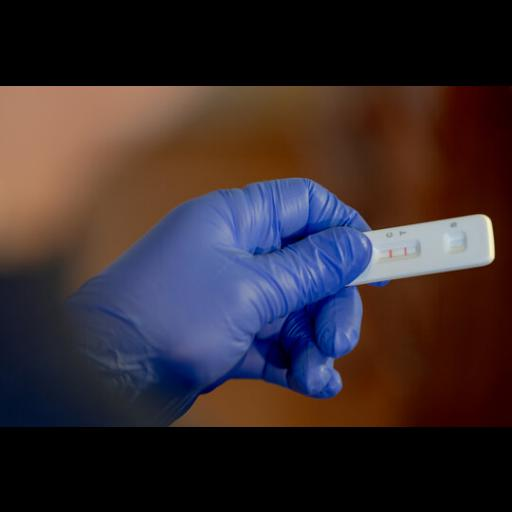Pos: (367, 211, 495, 281)
